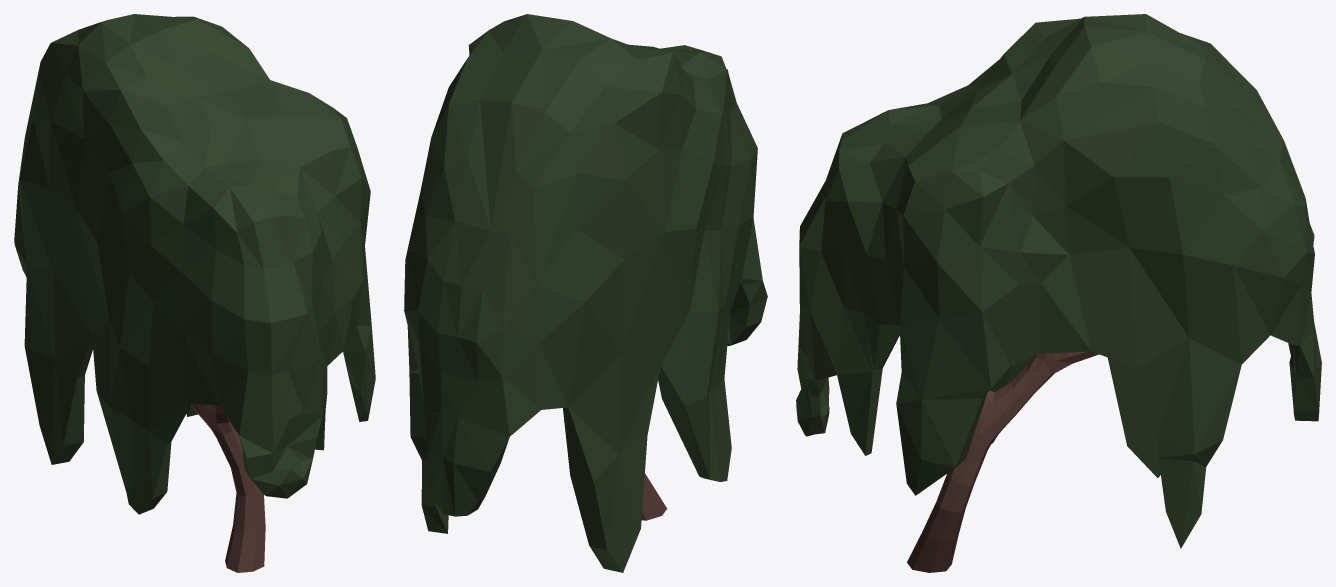
File: Willow_1.glb
The picture shows the model from 3 angles, left to right: view 1: azimuth 30°, elevation 25°; view 2: azimuth 150°, elevation 25°; view 3: azimuth 270°, elevation 25°; orthographic projection. The views are drawn at different scales.
Visible parts, largest first — view 1: Willow_1; view 2: Willow_1; view 3: Willow_1.
Part boxes in pixels (x1,y1,x2,y2): Willow_1: [14, 14, 375, 572]; Willow_1: [404, 14, 767, 572]; Willow_1: [796, 14, 1321, 572].
Bounding box in the file's own units: 1.45 × 2.85 × 2.55.
